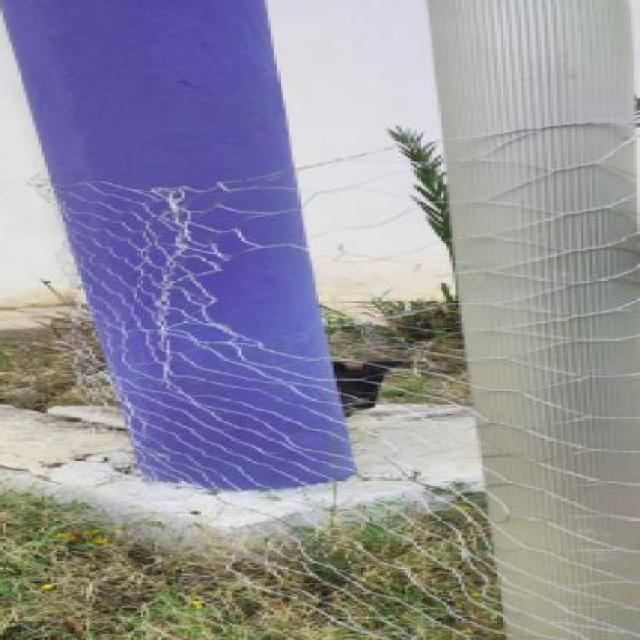fence line: (183, 211, 462, 372), (64, 154, 399, 186)
